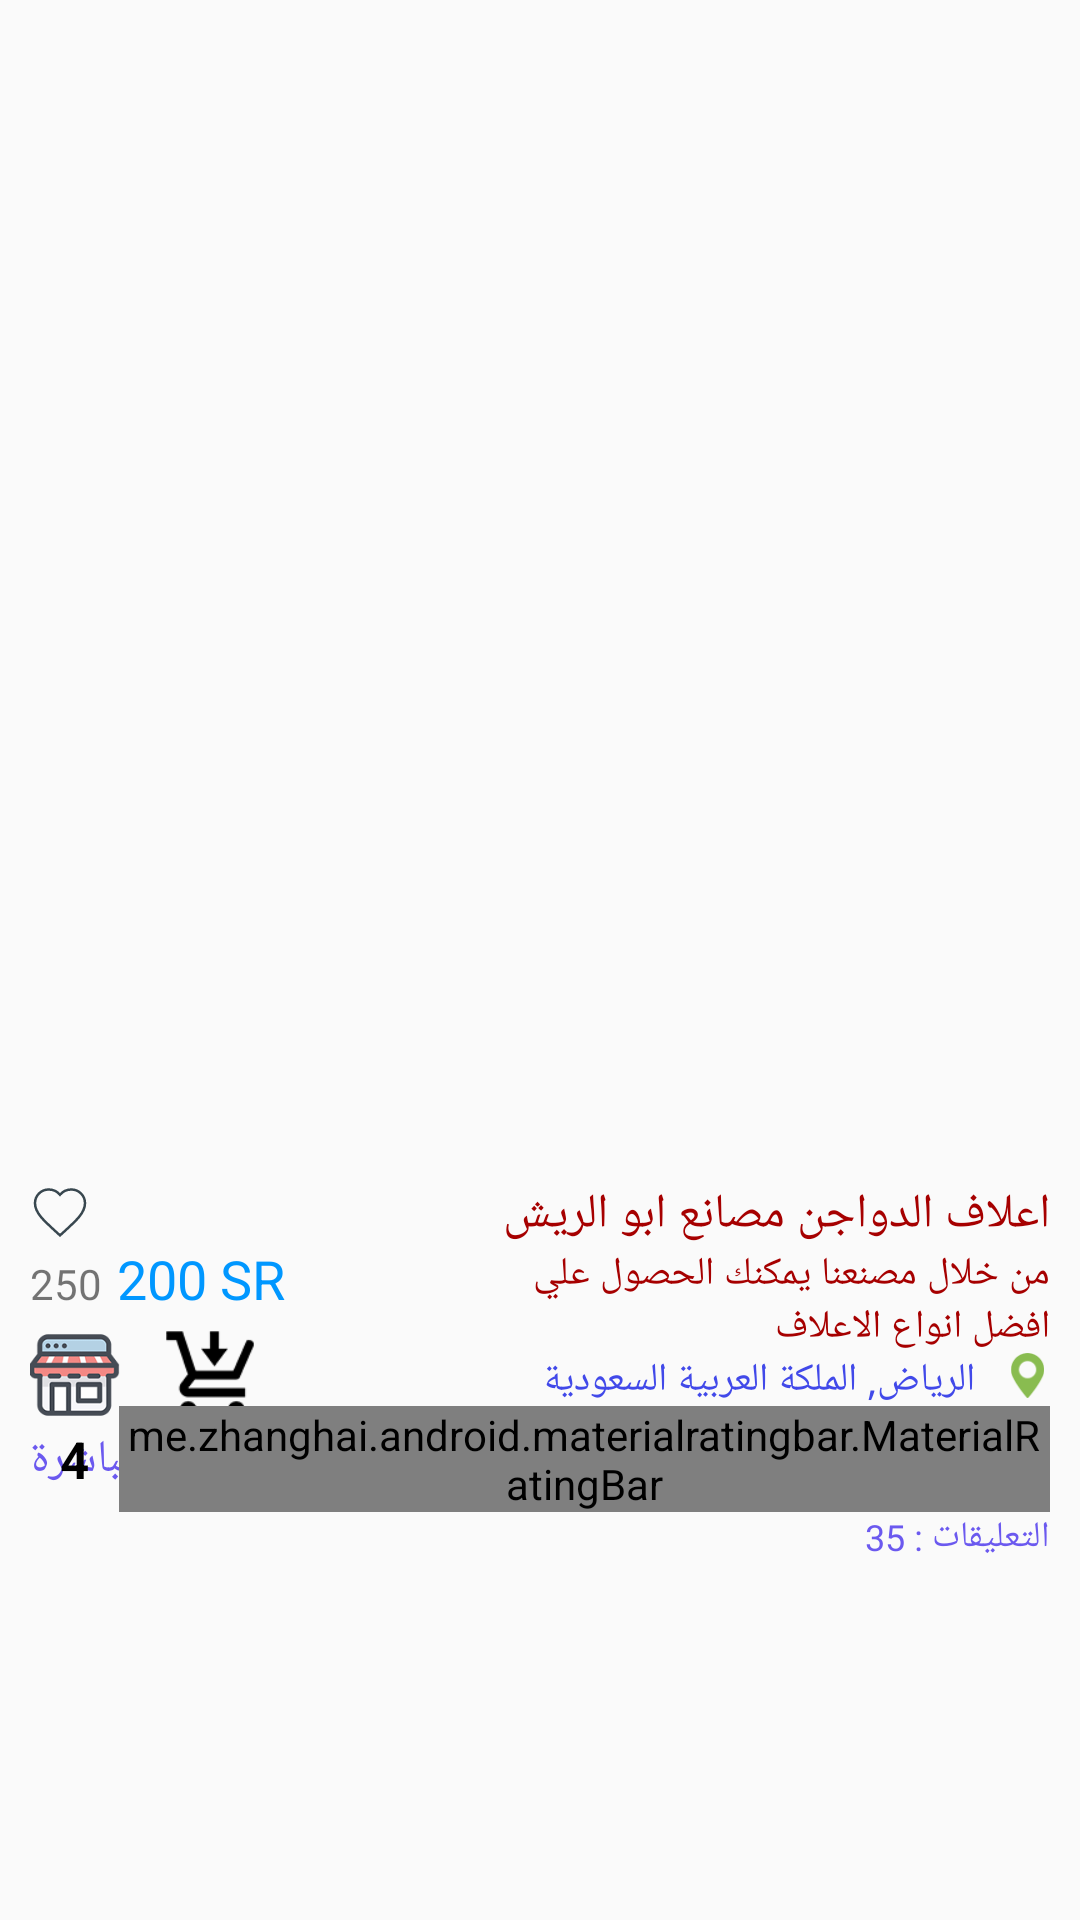

Named icons in this screenshot (1080w x 1920h) and their bounding boxes, (x1=x1, y1=y1, x2=x2, y2=y2):
buy: (x1=166, y1=1331, x2=254, y2=1398)
heart notactive: (x1=33, y1=1188, x2=87, y2=1237)
online store: (x1=30, y1=1334, x2=119, y2=1416)
